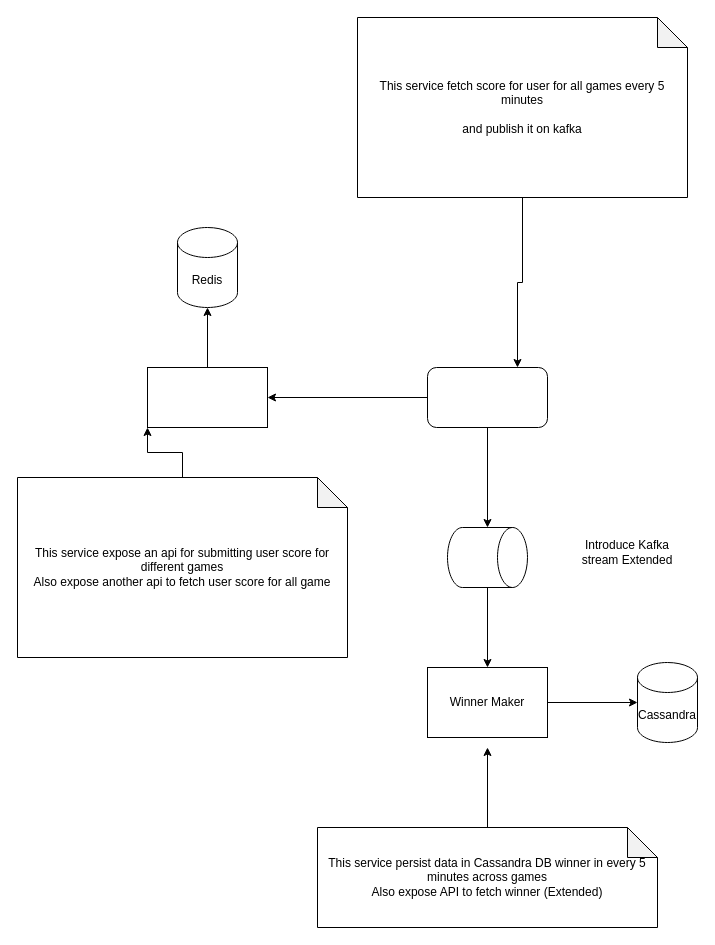
Image size: 715x945. Some labels were removed from this diagram. Each missing label, with the centre of its shape:
"Kafka" belongs at point (487, 557).
"Score Analytic Service" belongs at point (487, 397).
"Score Registry Service" belongs at point (207, 397).
